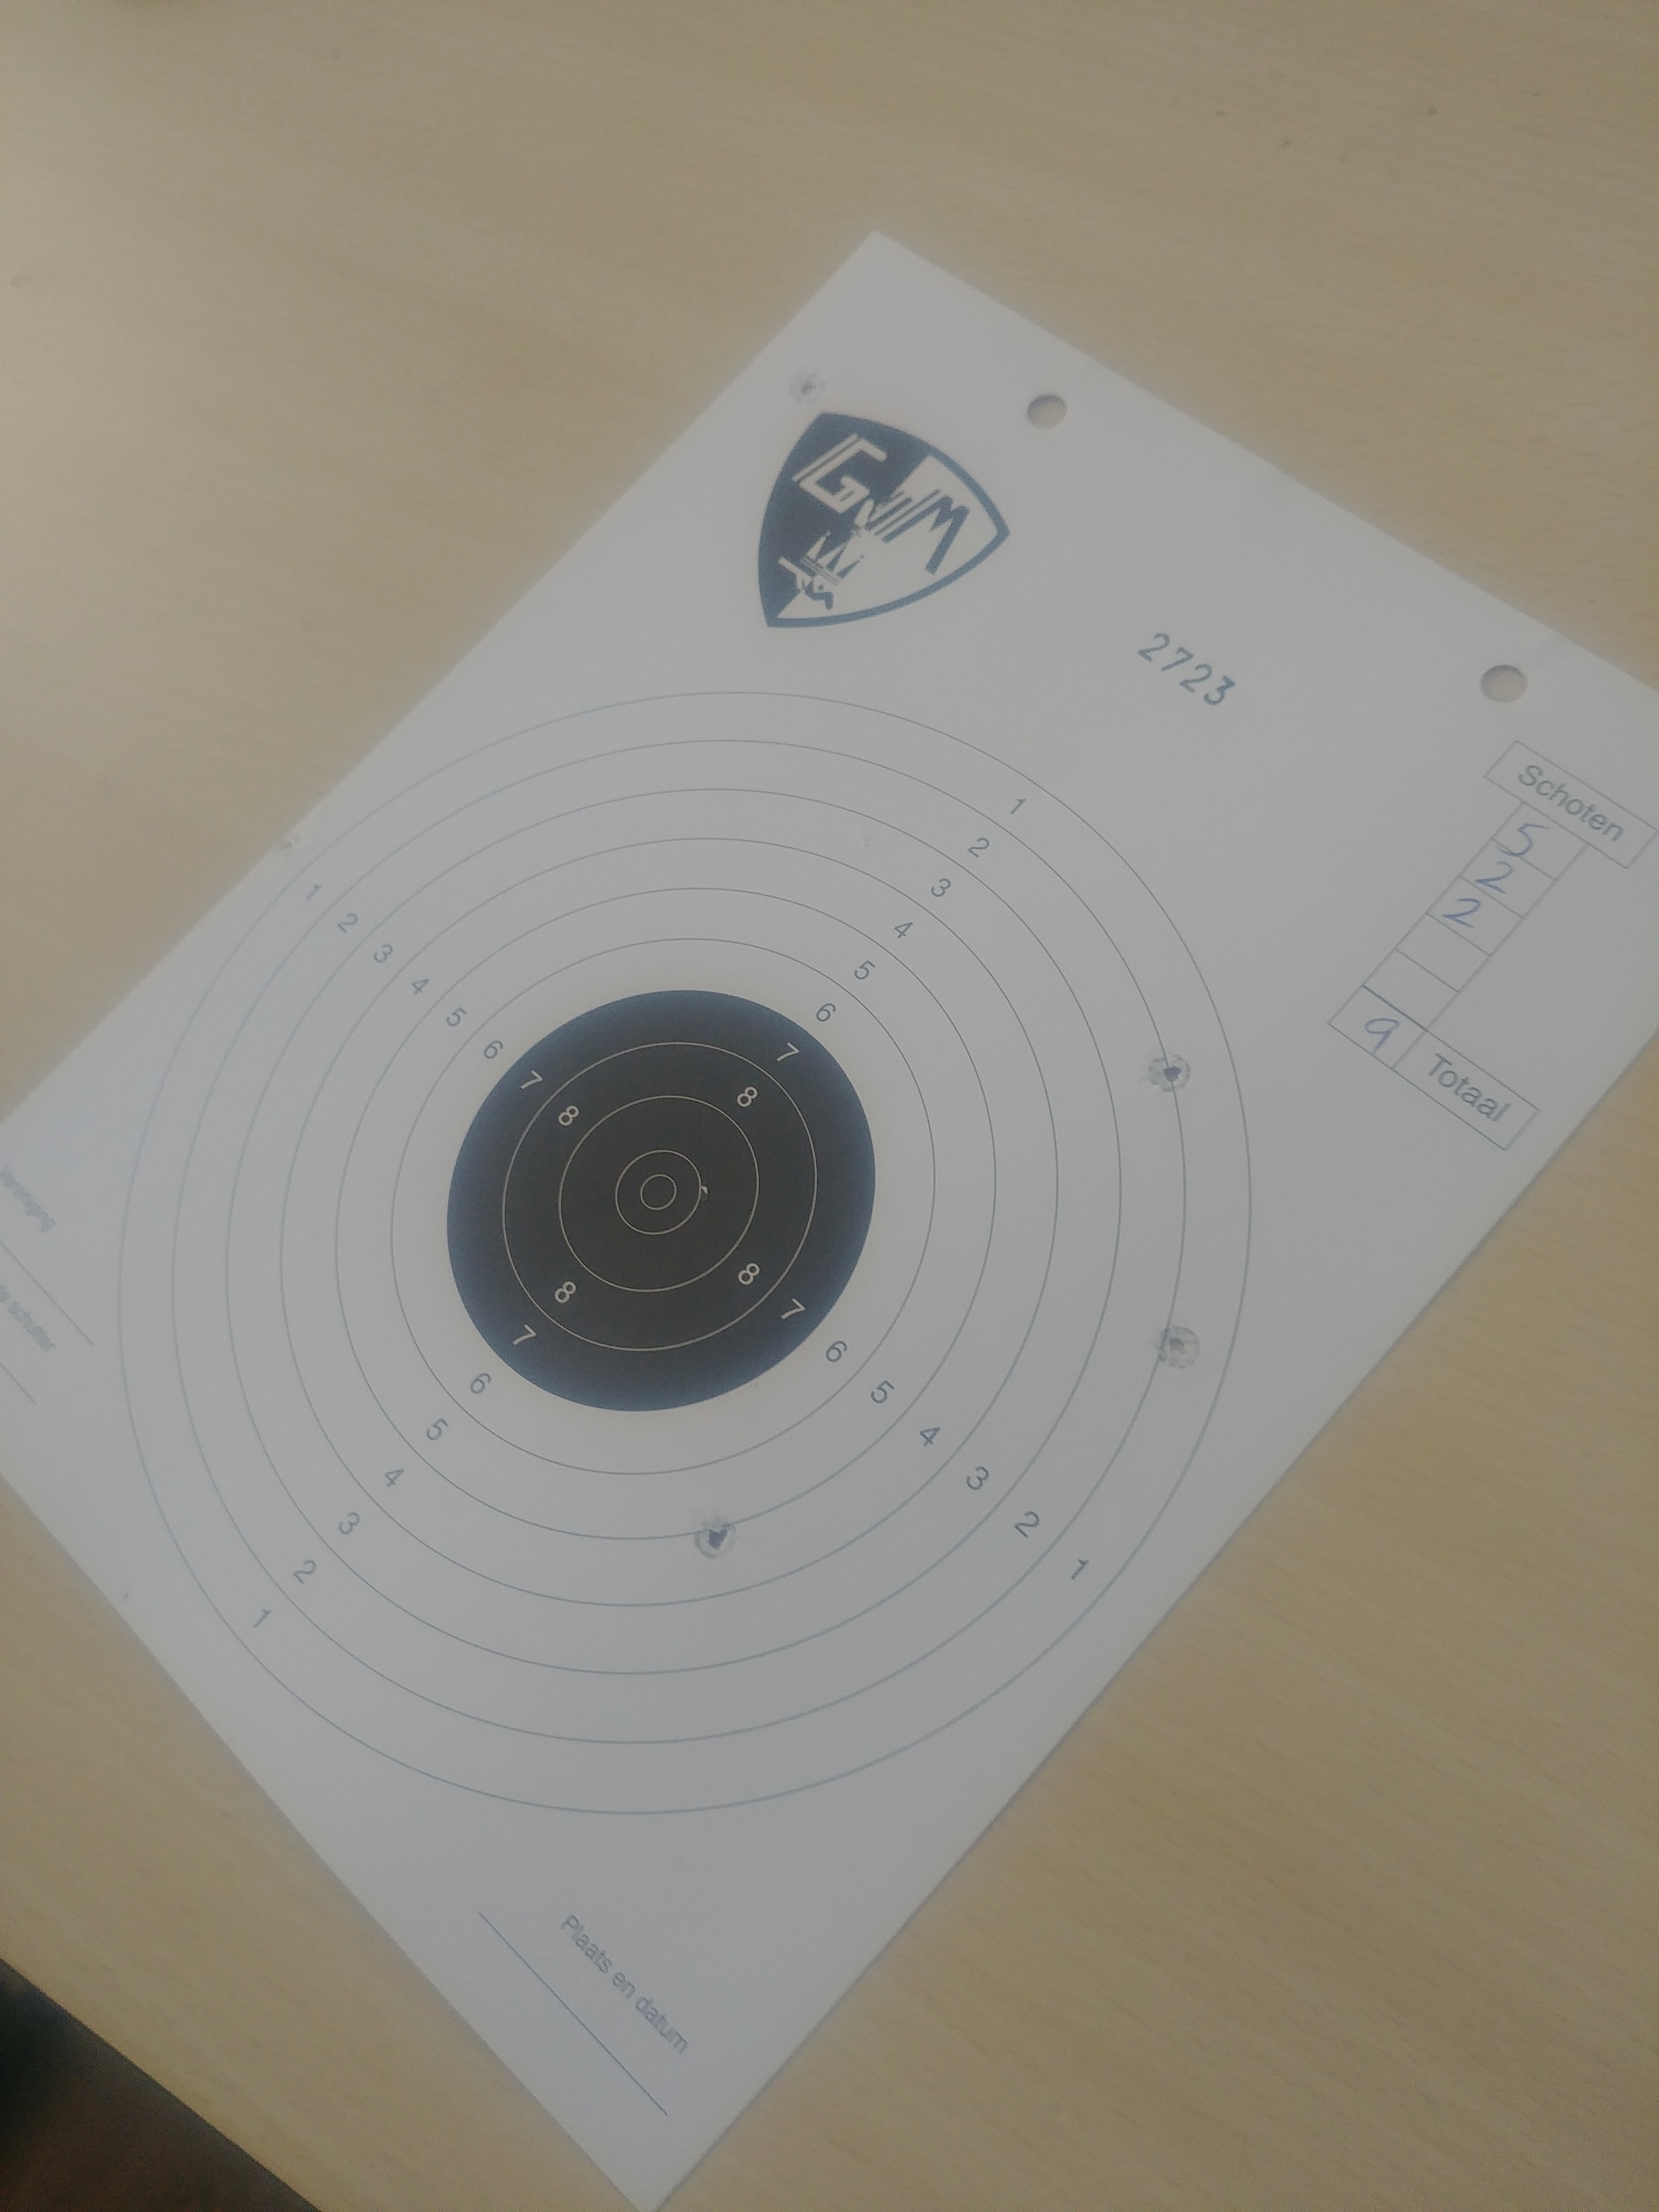center: (446, 989, 877, 1413)
out: (117, 691, 1251, 1815)
shot: (1155, 1324, 1201, 1369), (1147, 1052, 1192, 1094), (695, 1517, 737, 1559), (788, 373, 826, 402), (275, 831, 301, 853)
target: (613, 1148, 702, 1235)
